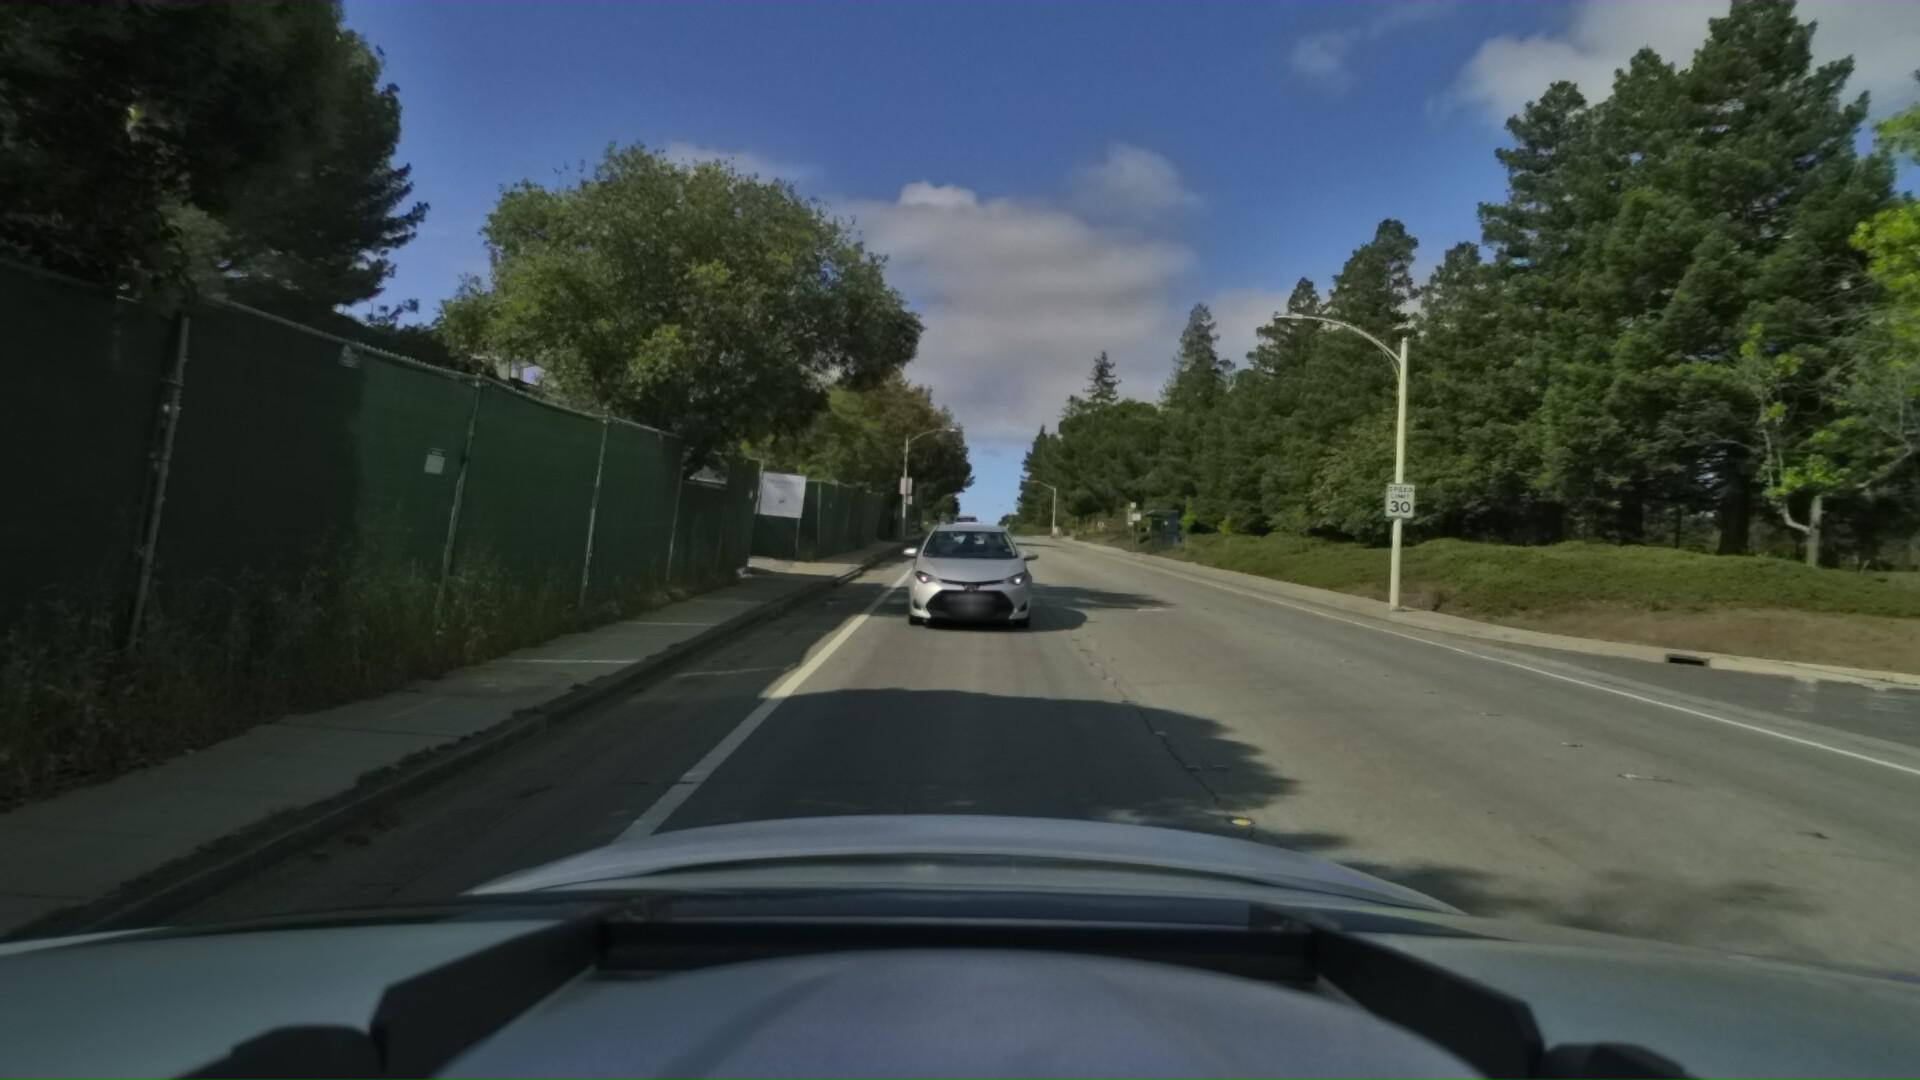car: (893, 500, 1036, 632), (942, 504, 996, 556)
